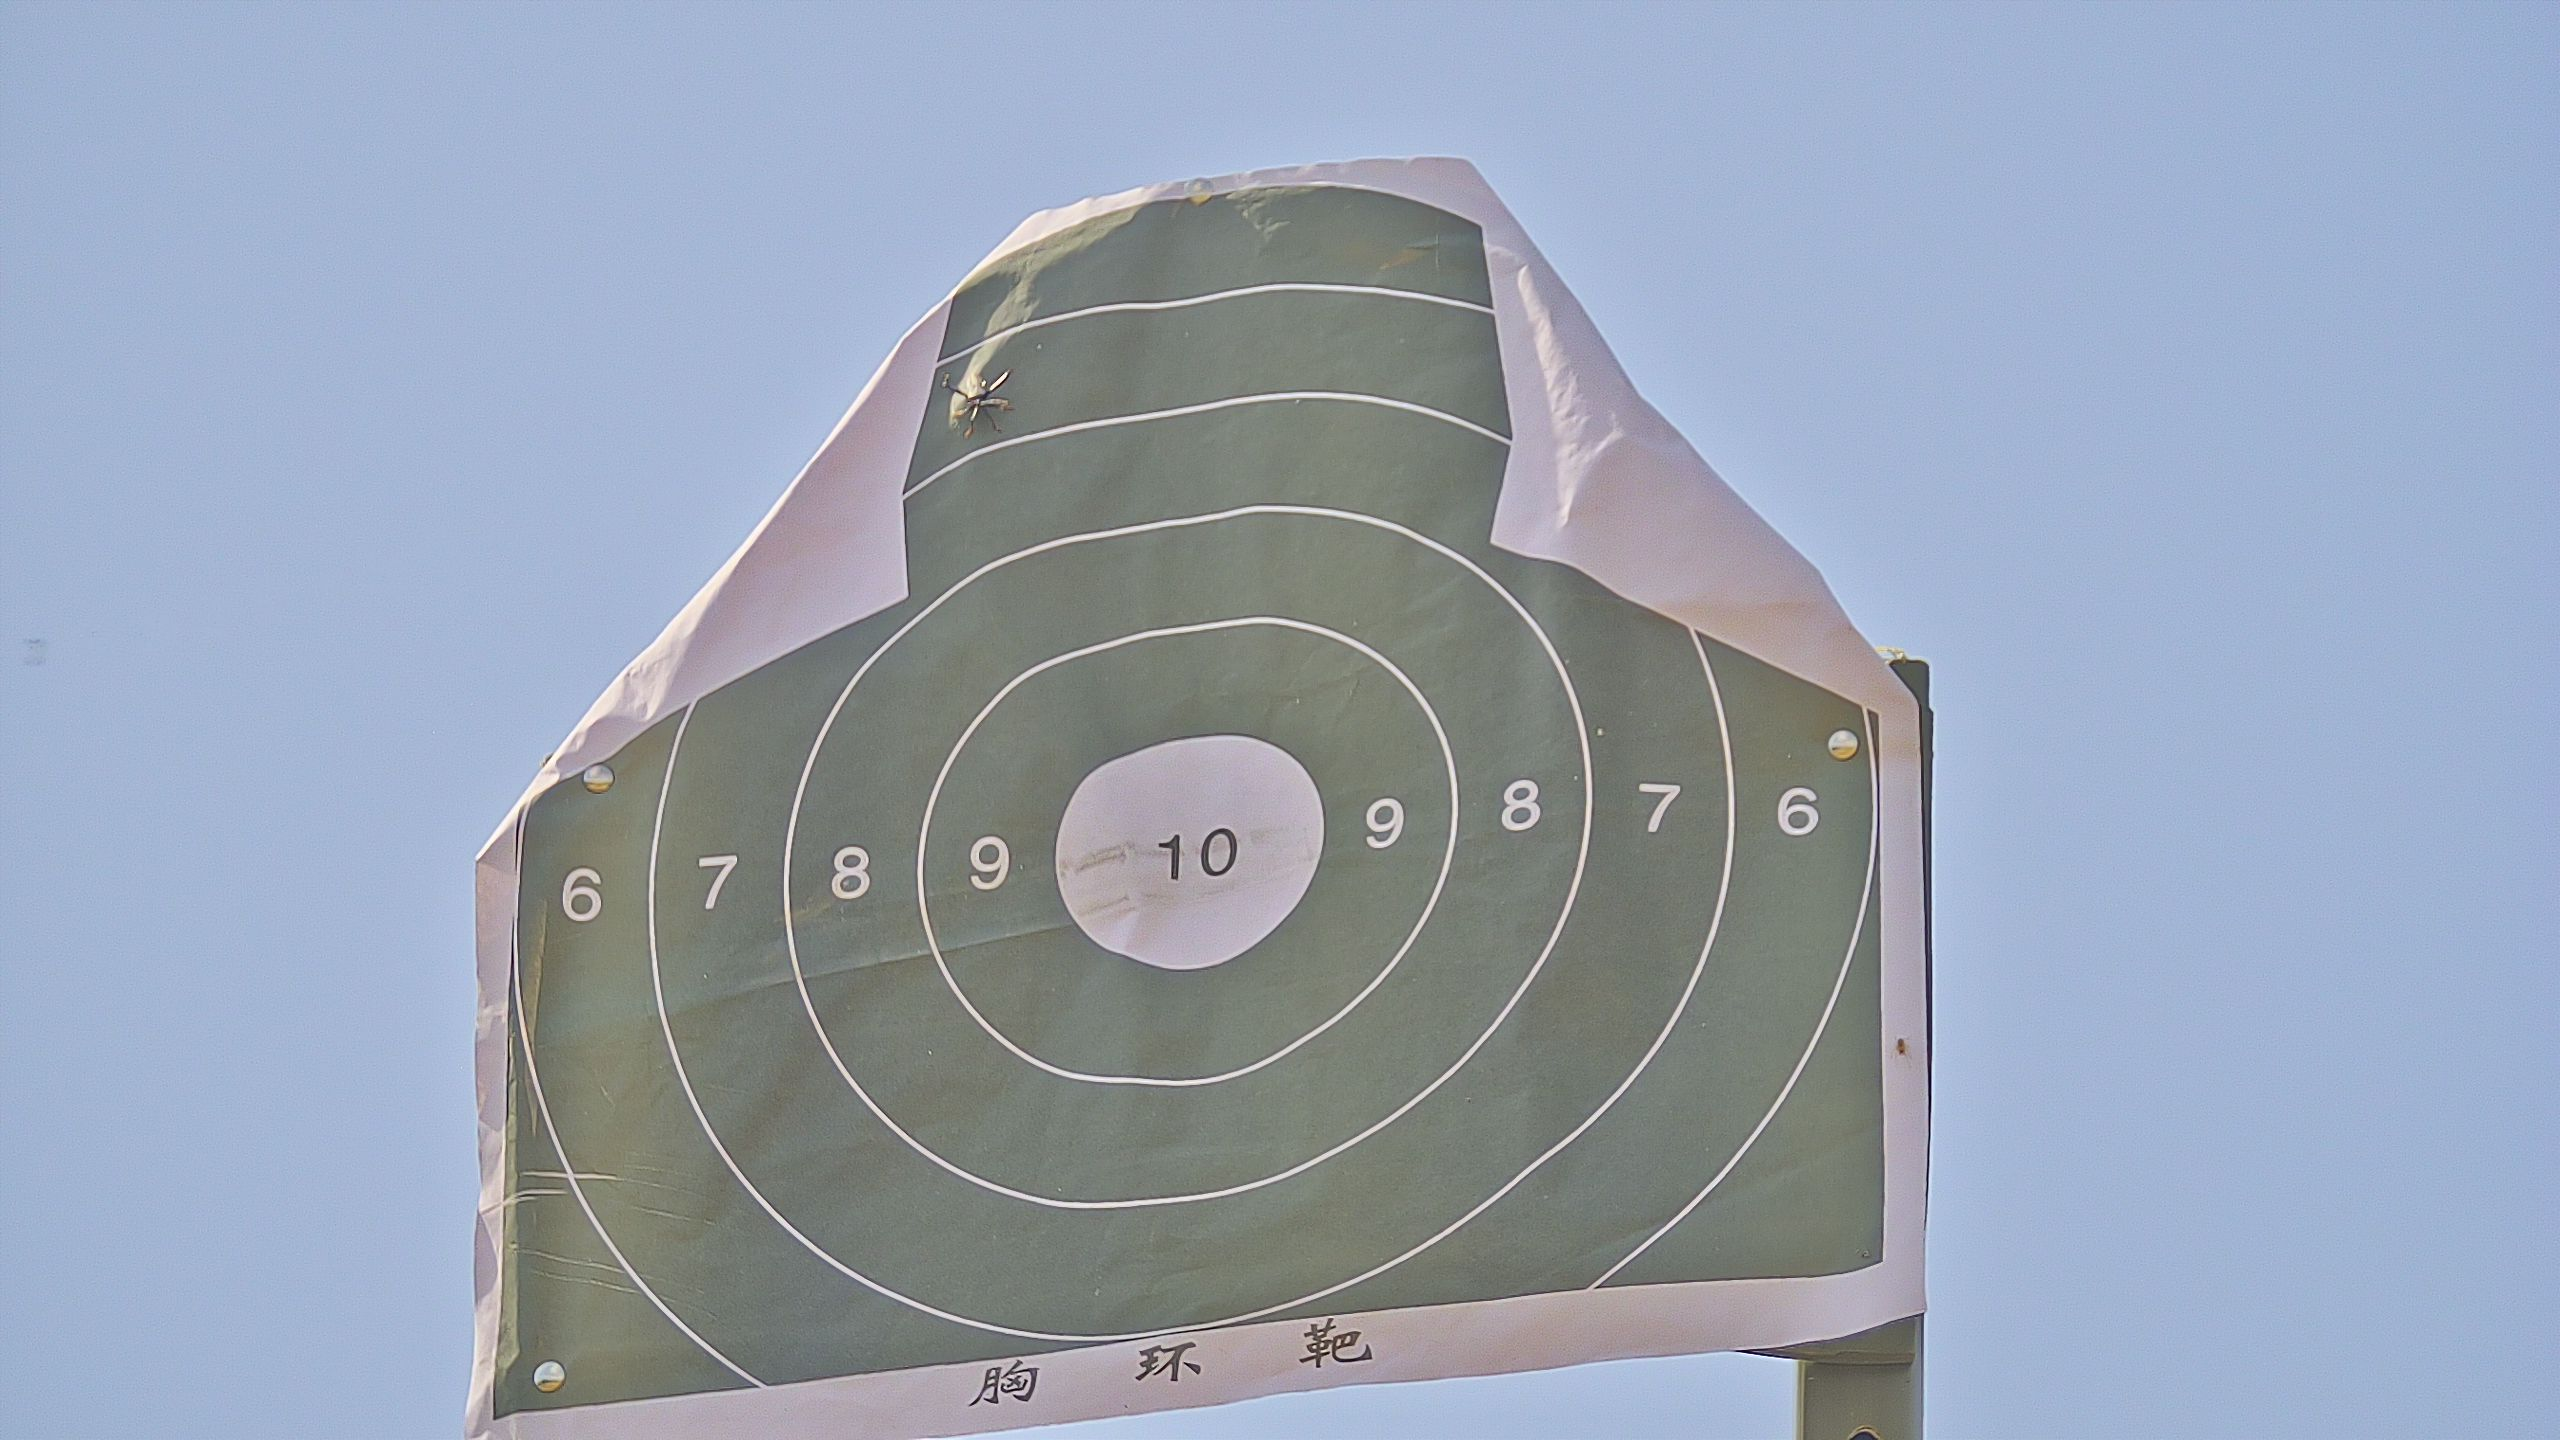target: (482, 190, 1901, 1440)
ten: (1051, 731, 1327, 972)
